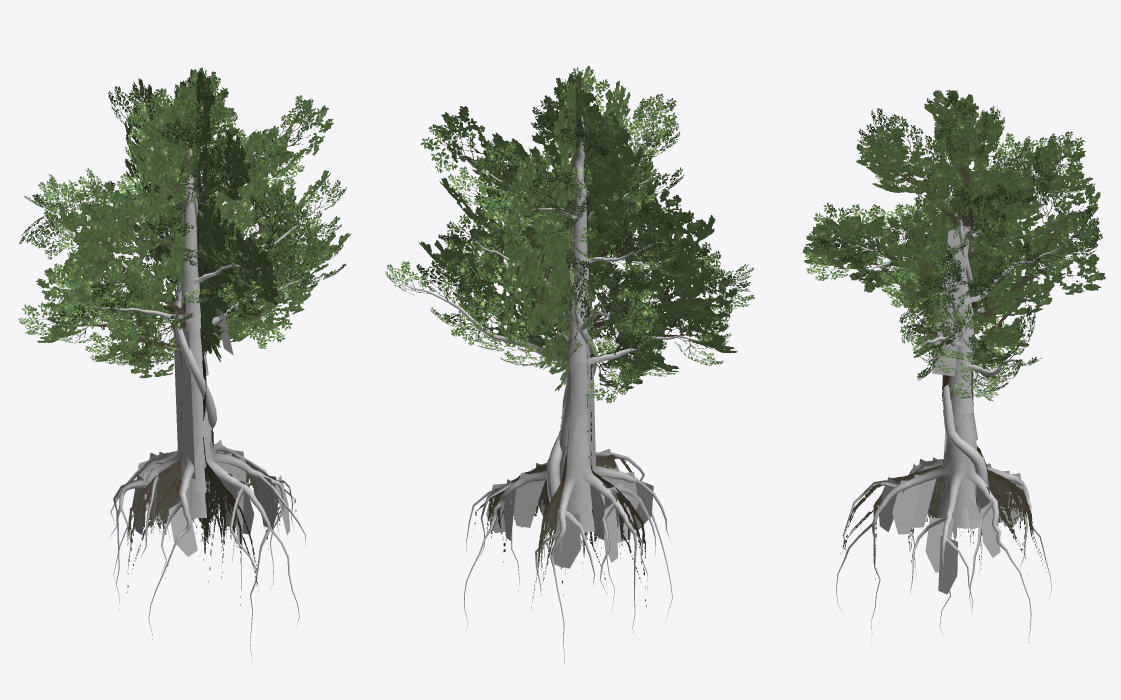
Rendered from Mangrove1.fbx.
3 renders of one model, left to right at view 1: azimuth 30°, elevation 25°; view 2: azimuth 150°, elevation 25°; view 3: azimuth 270°, elevation 25°, orthographic. The views are drawn at different scales.
Parts seen in each view (by area): view 1: LOD0, Billboard; view 2: LOD0, Billboard; view 3: LOD0, Billboard.
Part boxes in pixels (x1,y1,x2,y2): LOD0: (18, 70, 346, 661); Billboard: (35, 67, 350, 605); LOD0: (385, 67, 754, 663); Billboard: (418, 65, 738, 611); LOD0: (805, 90, 1102, 642); Billboard: (803, 90, 1105, 579).
Size of what is drawn, in the model's own units: 477 by 812 by 408.
